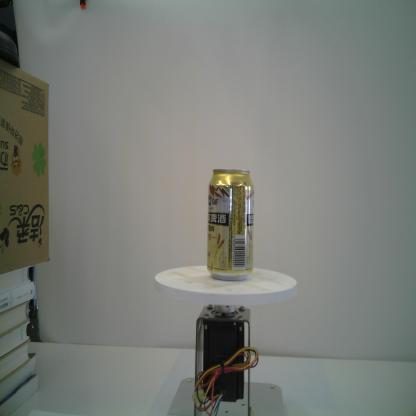Alcohol: (206, 168, 254, 281)
